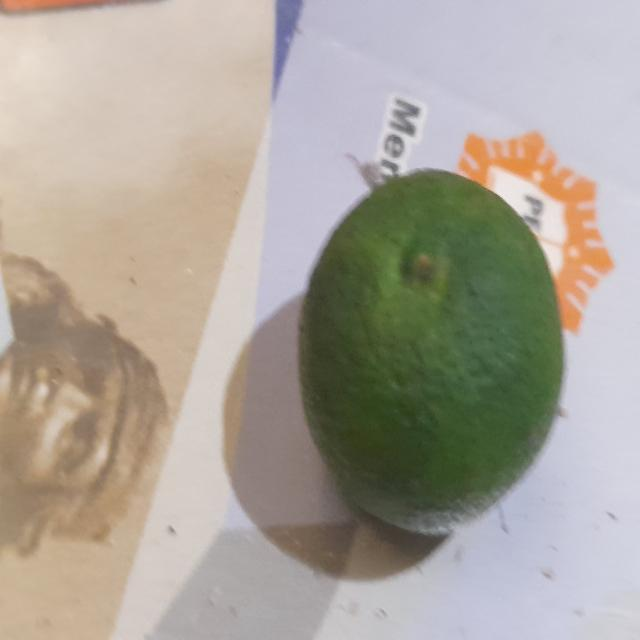heathy: (291, 167, 563, 536)
